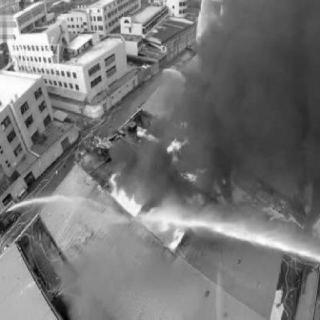Fire: (110, 117, 212, 253)
